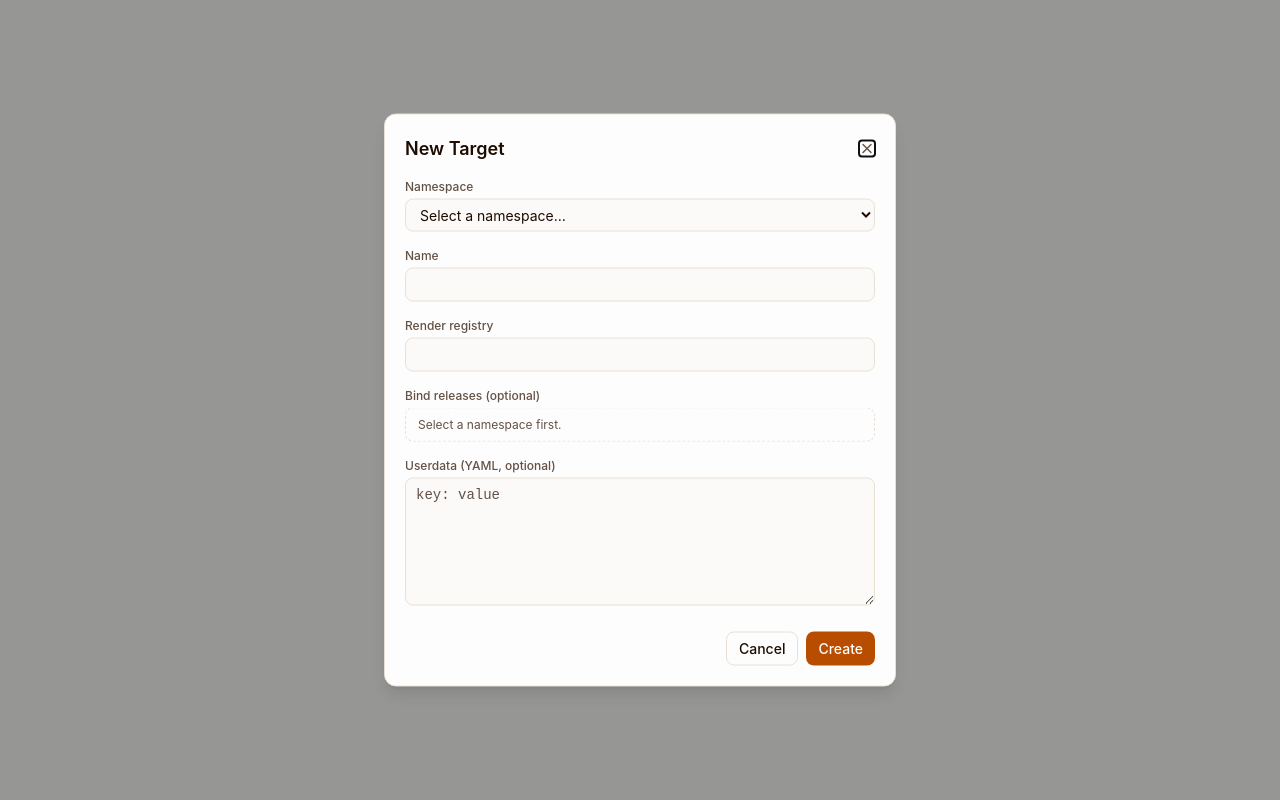
Scenario: CreateTargetDialog › clears registry and releases when the picked namespace changes
Select "team-a" in the dropdown labelled "Namespace" at (640,215), box x1=405 y1=198 x2=875 y2=232
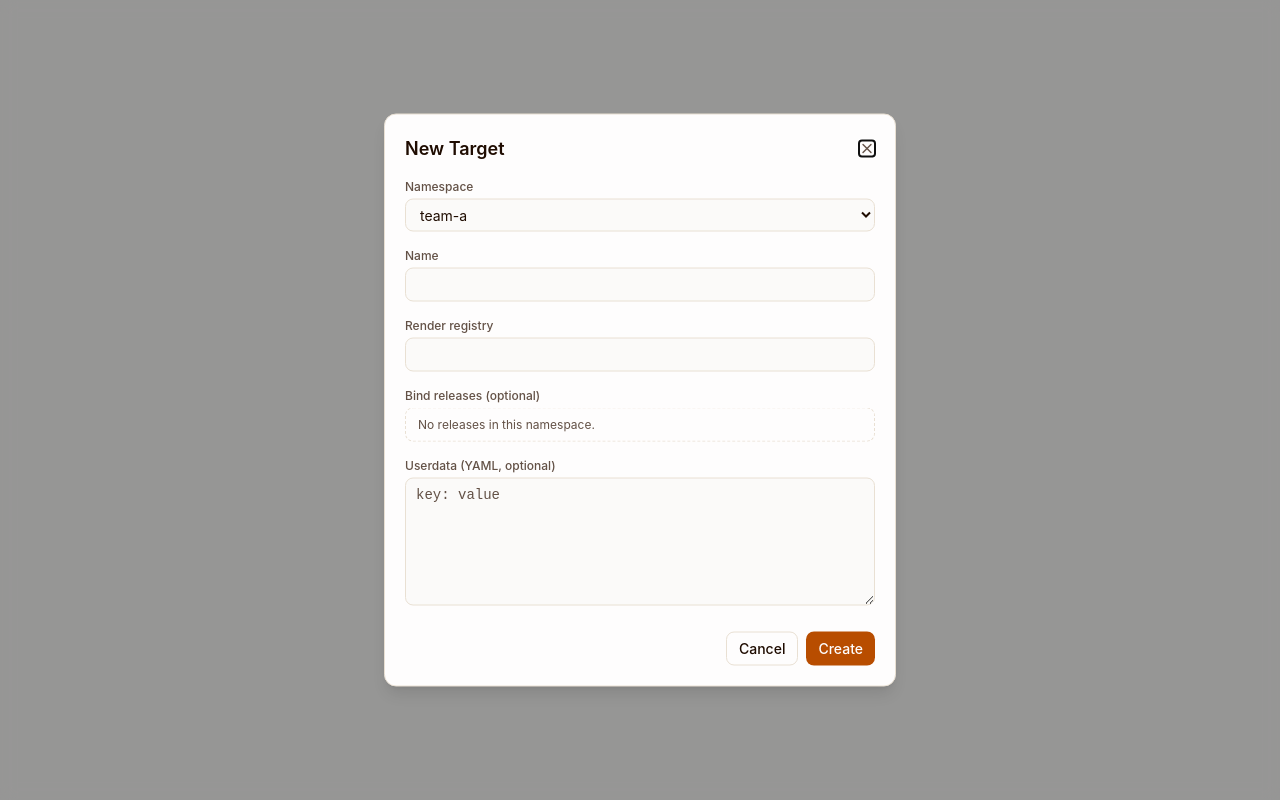
The dialog renders into a portal and the label has no htmlFor, so query the document.
Type "registry-a" into the field below "Render registry" at (640,354), box x1=405 y1=338 x2=875 y2=372
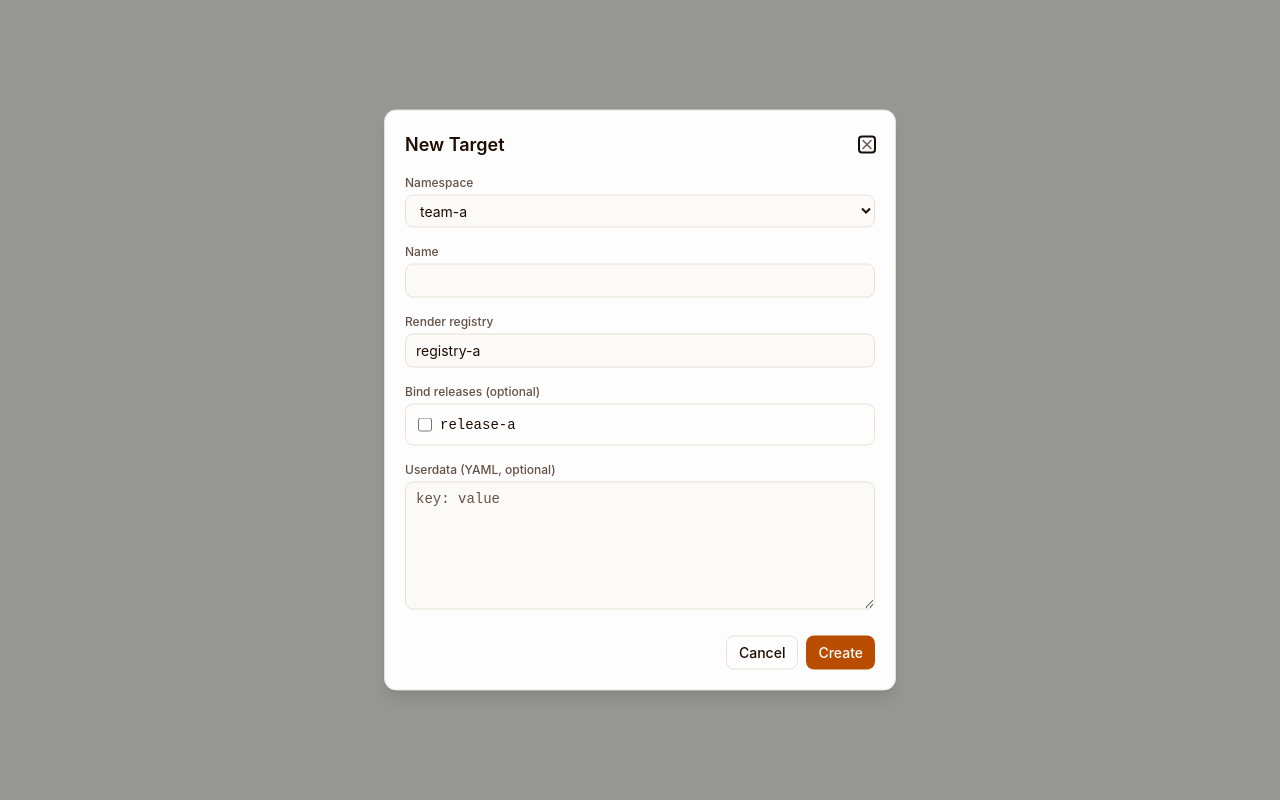
Click the checkbox labelled "release-a" at (425,424), box x1=418 y1=418 x2=432 y2=432
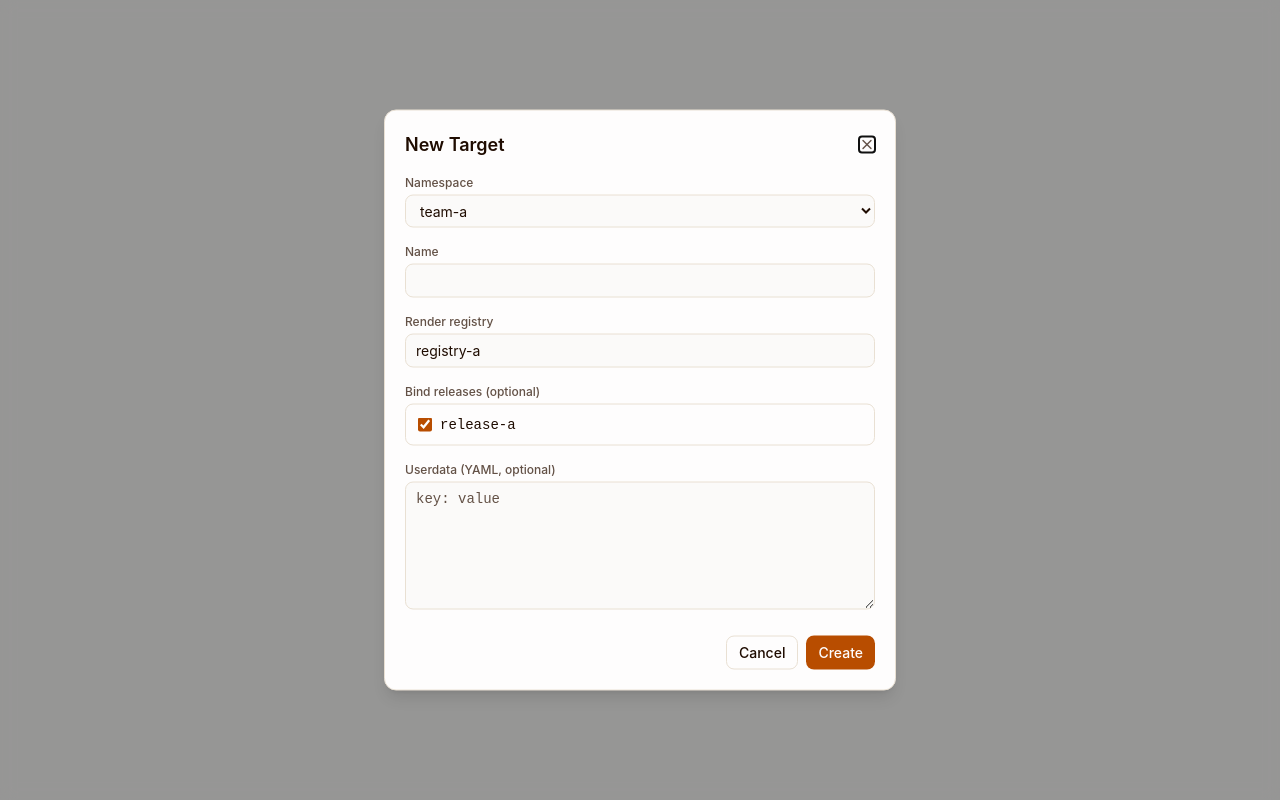
Select "team-b" in the dropdown labelled "Namespace" at (640,211), box x1=405 y1=194 x2=875 y2=228
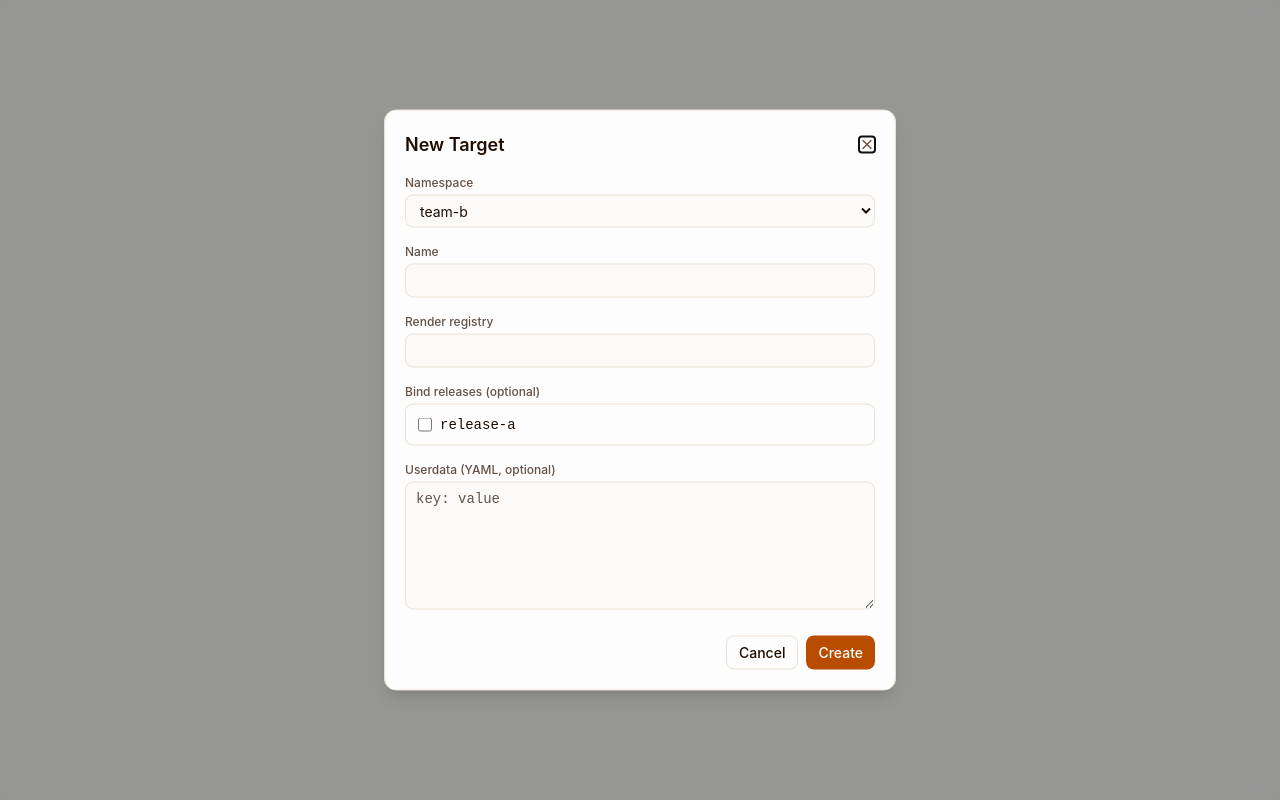
Result: the checkbox labelled "release-a" is not checked at x1=418 y1=418 x2=432 y2=432
Result: the field below "Render registry" is empty at x1=405 y1=334 x2=875 y2=368
